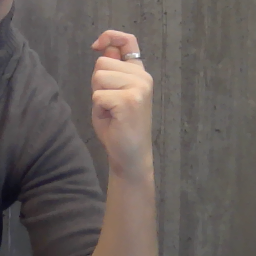T: (85, 27, 162, 162)
